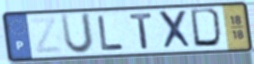D: (188, 7, 226, 50)
L: (96, 14, 126, 52)
T: (128, 12, 155, 50)
U: (59, 11, 95, 56)
X: (156, 9, 195, 51)
Z: (28, 15, 65, 56)
